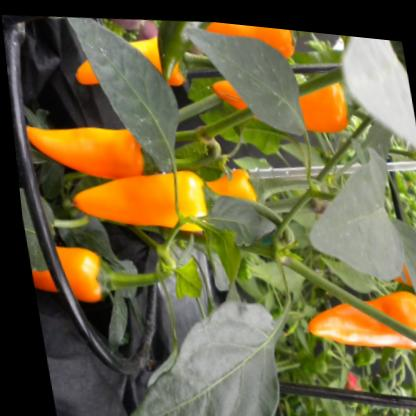--: (45, 146, 290, 254), (293, 256, 416, 362)
